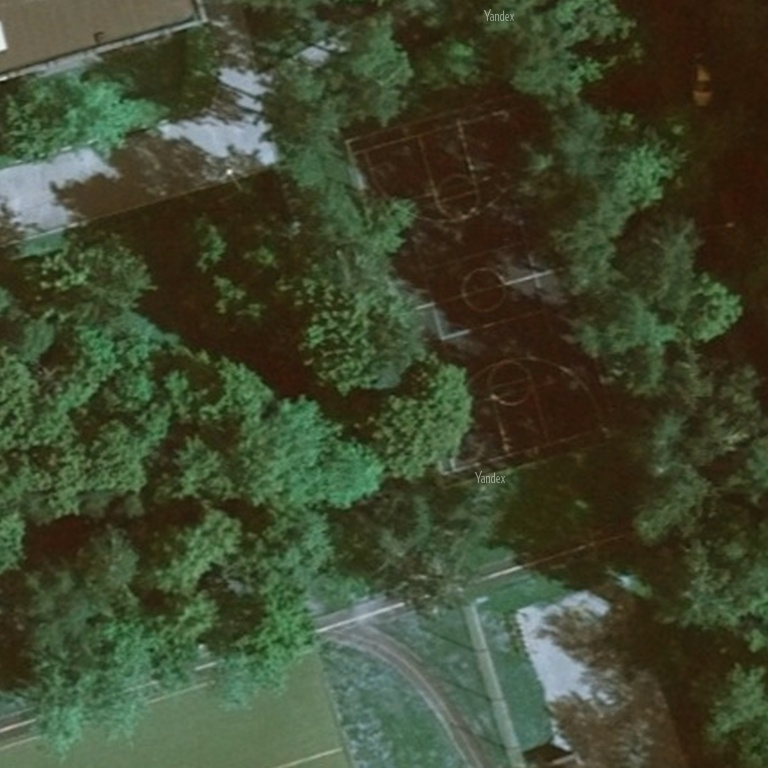basket_court: (333, 82, 663, 491)
